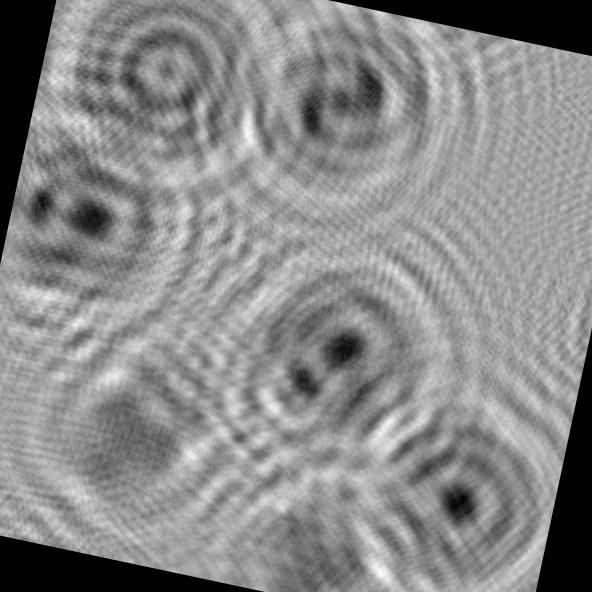P: (303, 358, 575, 592)
Q: (20, 0, 310, 218)
R: (187, 209, 484, 501), (0, 111, 217, 364)
S: (195, 0, 479, 252)
T: (0, 272, 274, 561), (184, 422, 452, 592)
